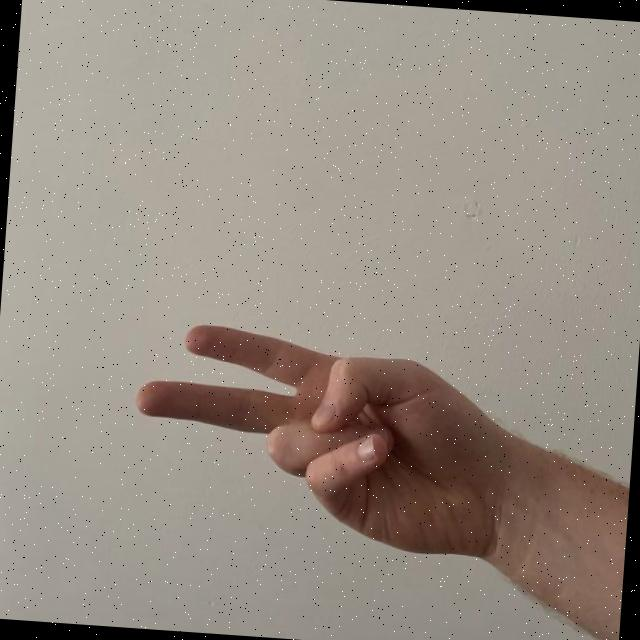scissors: (114, 314, 522, 570)
